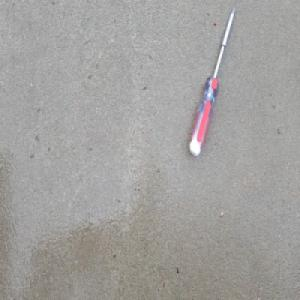Screwdriver: (189, 4, 237, 156)
